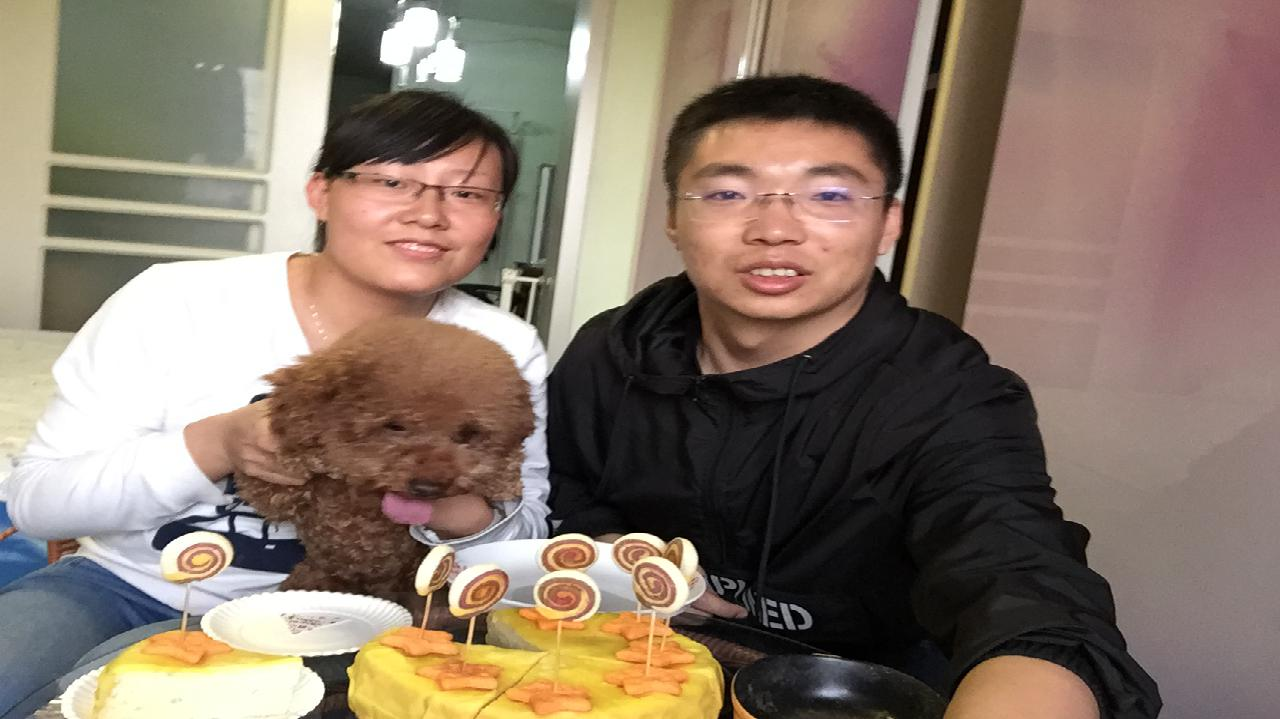zhuangzhuang: (231, 314, 537, 554)
